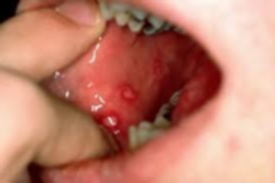Ulcer: (97, 113, 122, 139), (121, 83, 134, 100)
